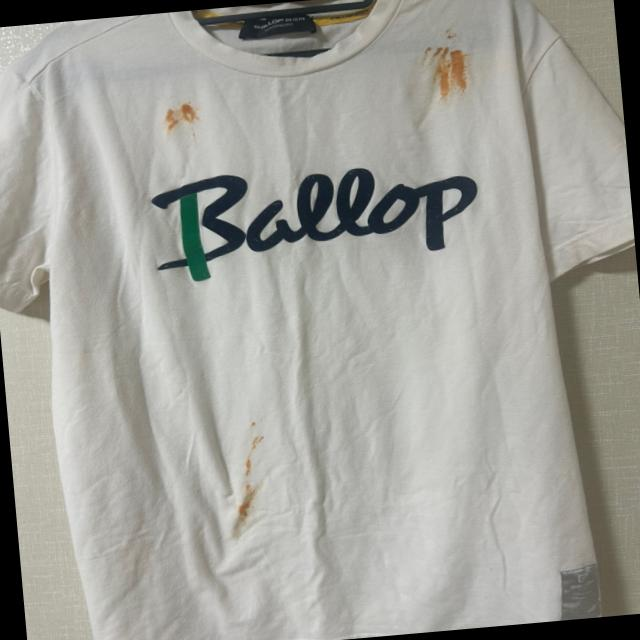stain: (419, 40, 478, 104), (233, 414, 276, 478), (160, 95, 206, 138), (229, 482, 265, 526), (442, 21, 462, 44)
